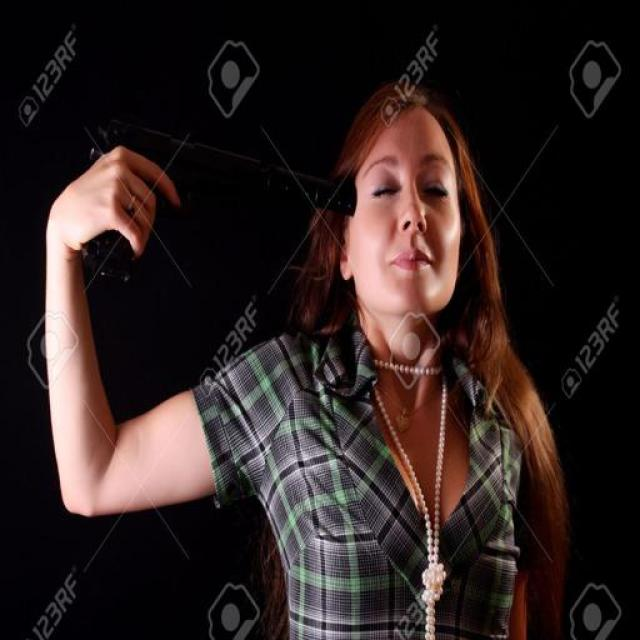pistol: (86, 114, 357, 295)
